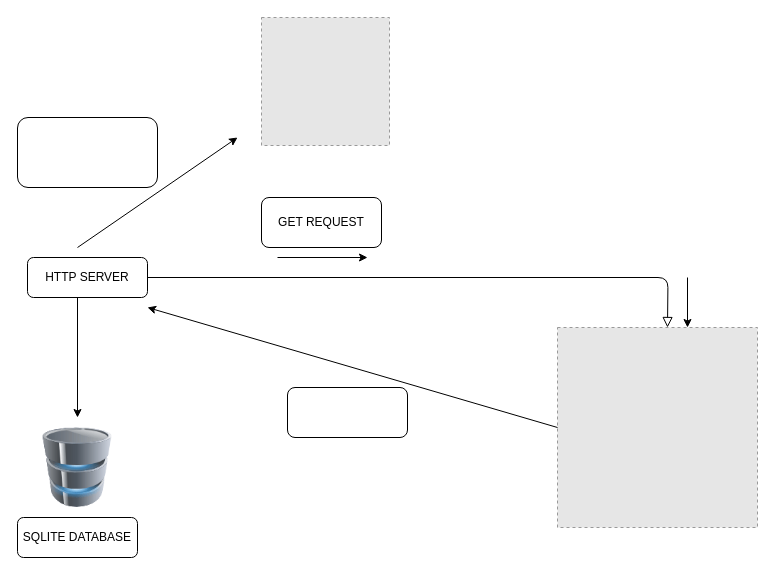
Image size: 775x575. Some labels were removed from this diagram. Grey dashed boxes stand in for pictures. The box of each missing label's shape, as (x1, y1, x2, y2) in pixels:
RESPONSE DATA: (286, 386, 408, 438)
RESPONSE IN JSON FORMAT IN BROWSER: (16, 116, 158, 188)
